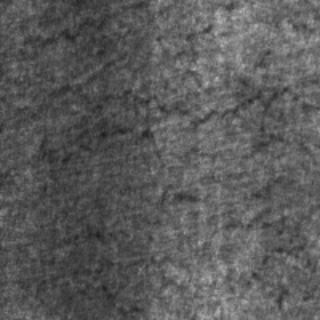crazing: (31, 78, 309, 162), (168, 173, 310, 299)
